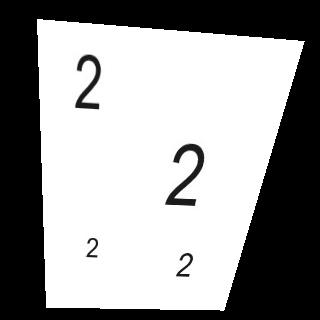two: (153, 140, 224, 212), (58, 52, 118, 112), (169, 249, 199, 279), (80, 235, 106, 261)
